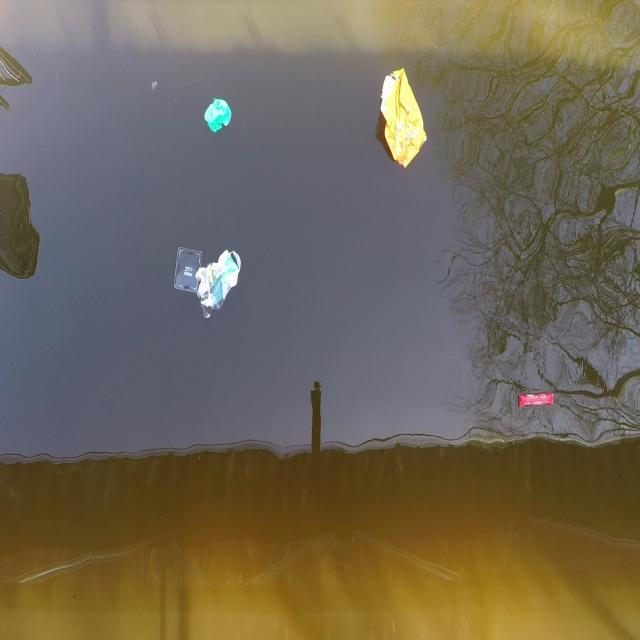Autre plastique: (167, 245, 201, 298)
Sac plastique: (374, 63, 430, 175), (196, 236, 244, 328), (202, 95, 232, 136)
